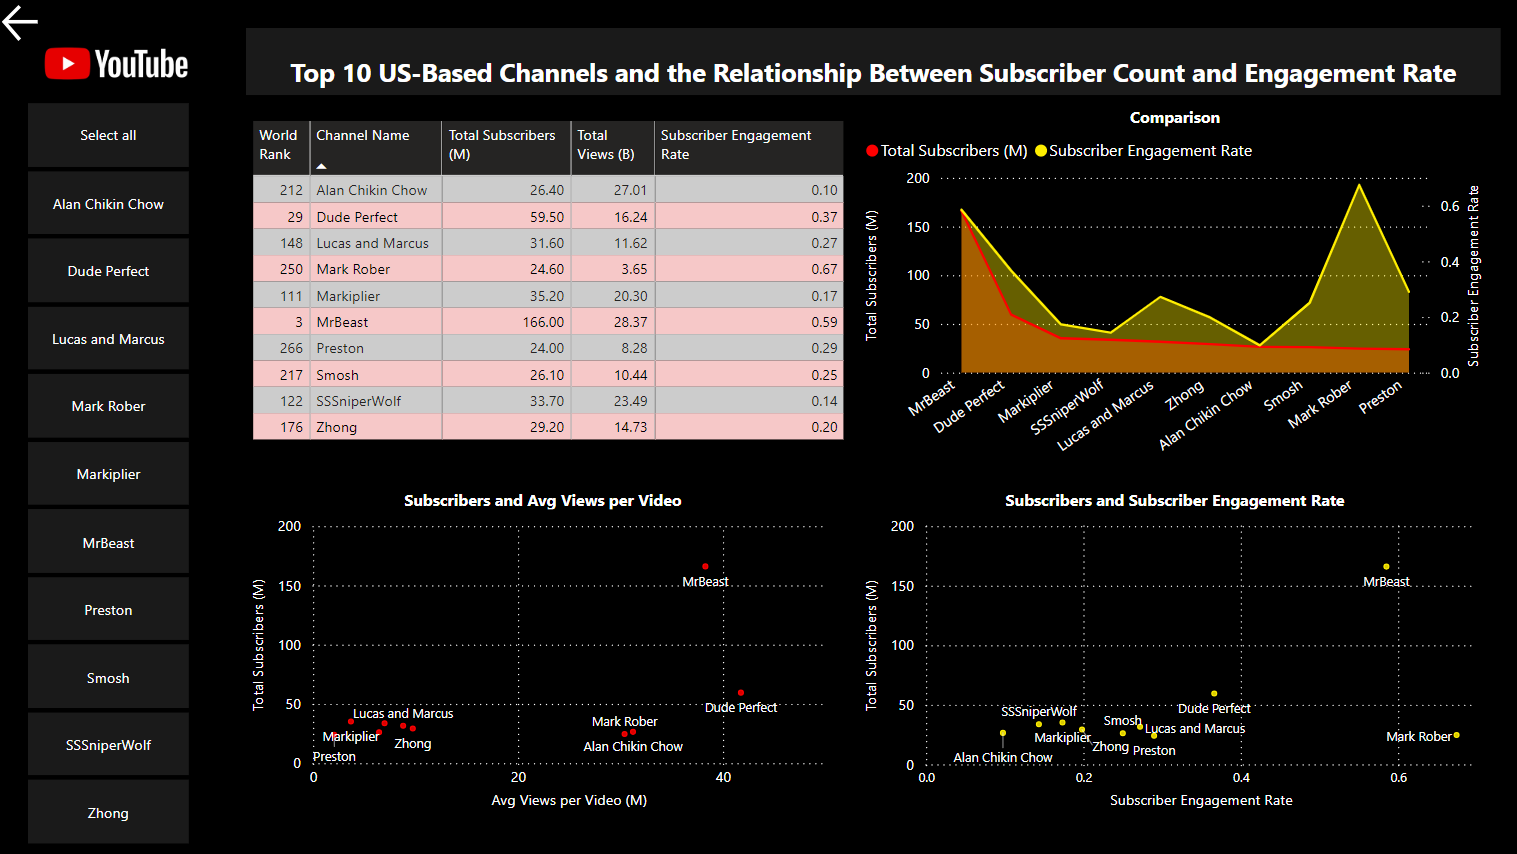

The dashboard page shown, as its layout file describes it:
{"tool":"powerbi","page":{"name":"Page 3","canvas":[1280,720],"ordinal":2},"visuals":[{"type":"tableEx","fields":{"Values":["influencers virtual_table.overall_rank","influencers virtual_table.channel_name","influencers virtual_table.Total Subscribers (M)","influencers virtual_table.Total Views (B)","influencers virtual_table.Subscriber Engagement RateSubscriber Engagement Rate"]},"box":[208,96.9,512,280],"z":0},{"type":"scatterChart","title":"Subscribers and Avg Views per Video","fields":{"X":["influencers virtual_table.Avg Views per Video (M)"],"Category":["influencers virtual_table.channel_name"],"Y":["influencers virtual_table.Total Subscribers (M)"]},"box":[208,409.1,496,272],"z":1000},{"type":"scatterChart","title":"Subscribers and Subscriber Engagement Rate","fields":{"X":["influencers virtual_table.Subscriber Engagement RateSubscriber Engagement Rate"],"Category":["influencers virtual_table.channel_name"],"Y":["influencers virtual_table.Total Subscribers (M)"]},"box":[720,409.1,528,272],"z":2000},{"type":"textbox","box":[208,24,1048,56],"z":3000},{"type":"areaChart","title":"Comparison","fields":{"Category":["influencers virtual_table.channel_name"],"Y":["influencers virtual_table.Total Subscribers (M)"],"Y2":["influencers virtual_table.Subscriber Engagement RateSubscriber Engagement Rate"]},"box":[720,89.1,528,304],"z":4000},{"type":"slicer","fields":{"Values":["influencers virtual_table.channel_name"]},"box":[0,80,184,632],"z":5000},{"type":"image","box":[8,24,192,56],"z":6000},{"type":"actionButton","box":[0,0,48,40],"z":7000}]}

Visuals, with their boxes on the page's 1280x720 design canvas (x1, y1, x2, y2). These are canvas units, not pixel positions in the 1517x854 screenshot, which may show the page scaled, cropped or inside an application window:
tableEx - influencers virtual_table.overall_rank x influencers virtual_table.channel_name: detection(208, 97, 720, 377)
"Subscribers and Avg Views per Video" scatterChart: detection(208, 409, 704, 681)
"Subscribers and Subscriber Engagement Rate" scatterChart: detection(720, 409, 1248, 681)
textbox: detection(208, 24, 1256, 80)
"Comparison" areaChart: detection(720, 89, 1248, 393)
slicer - influencers virtual_table.channel_name: detection(0, 80, 184, 712)
image: detection(8, 24, 200, 80)
actionButton: detection(0, 0, 48, 40)
